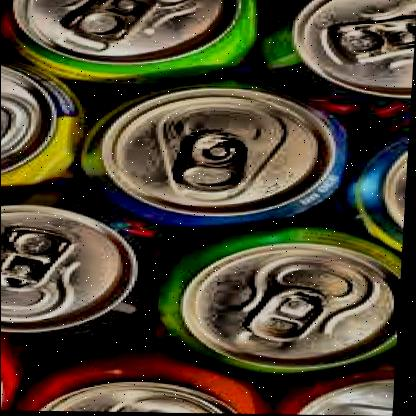Can: (68, 75, 360, 229), (153, 224, 405, 376), (0, 1, 272, 90), (0, 200, 154, 340), (22, 342, 284, 414), (254, 0, 416, 116), (0, 58, 90, 198), (342, 126, 410, 254), (271, 360, 399, 416), (0, 335, 28, 411)
